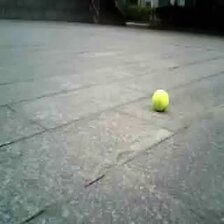tennis: (152, 91, 168, 110)
